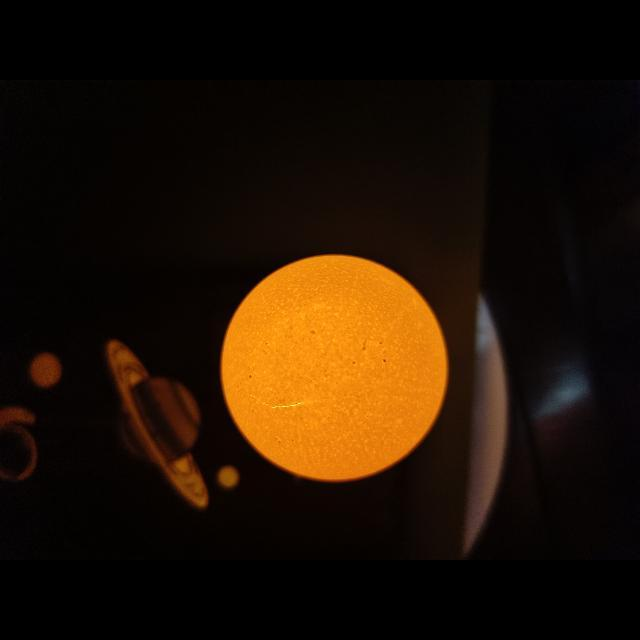AA - Premium: (221, 255, 448, 481)
